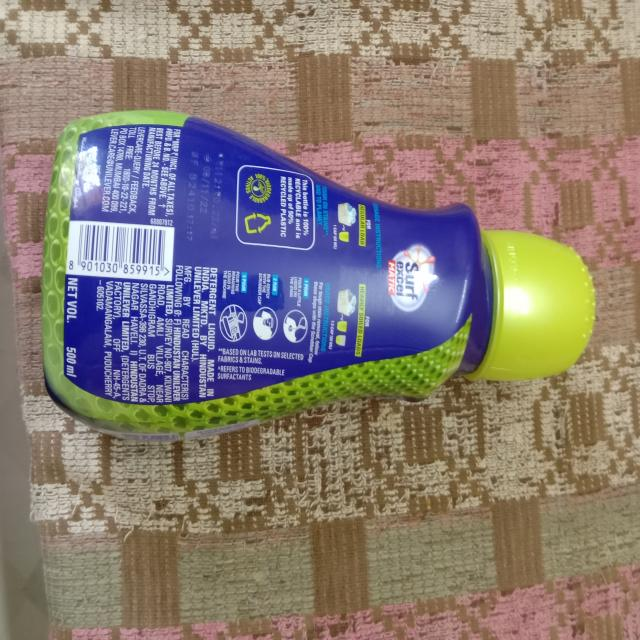detergent: (45, 117, 597, 434)
